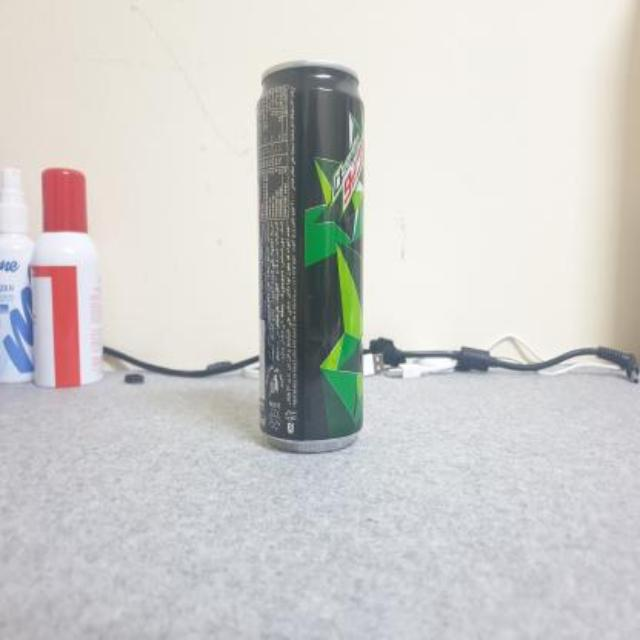metal: (257, 62, 360, 449)
